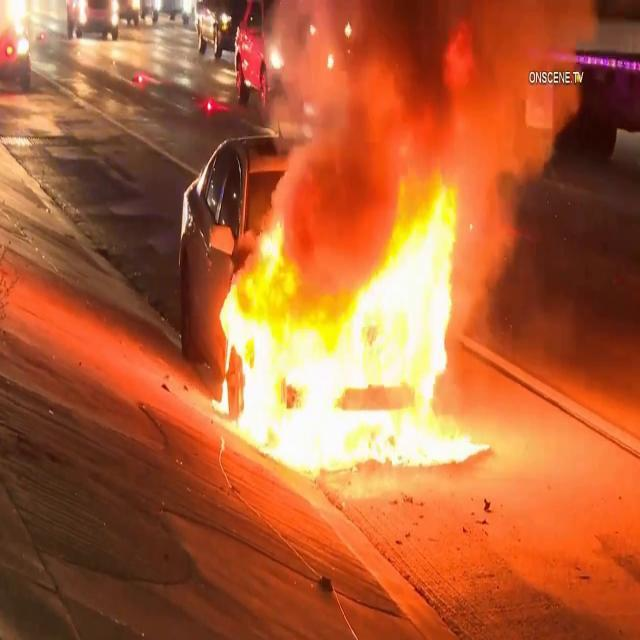Fire: (212, 180, 512, 476)
Smoke: (267, 0, 617, 208), (0, 0, 67, 65)
